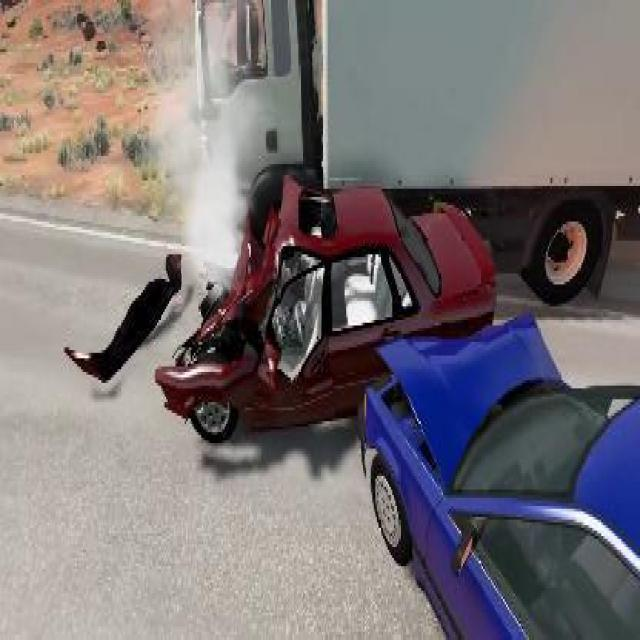accident: (143, 0, 638, 637)
